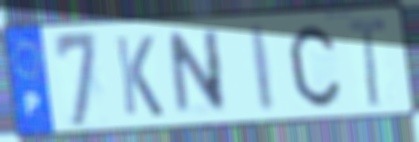7: (51, 27, 102, 131)
C: (286, 22, 343, 110)
I: (247, 22, 278, 115)
K: (112, 33, 166, 120)
N: (166, 26, 229, 120)
T: (344, 15, 389, 111)
